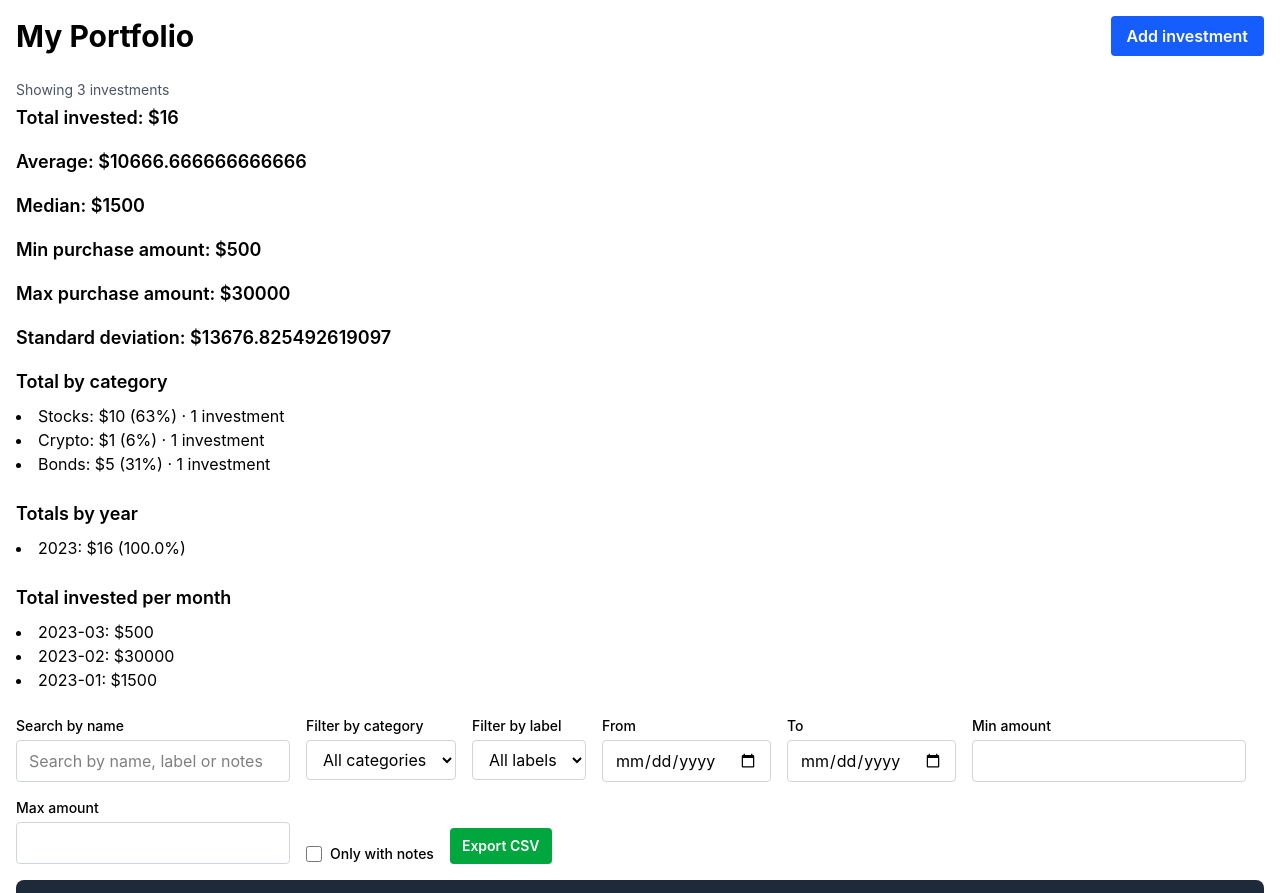
Test: HomePage › filter by category › AC-004: shows an empty-state message when no investments match the active filters
The image size is (1280, 893).
Select "Stocks" in the dropdown labelled "Filter by category" at (381, 760), box [306,740,456,780]
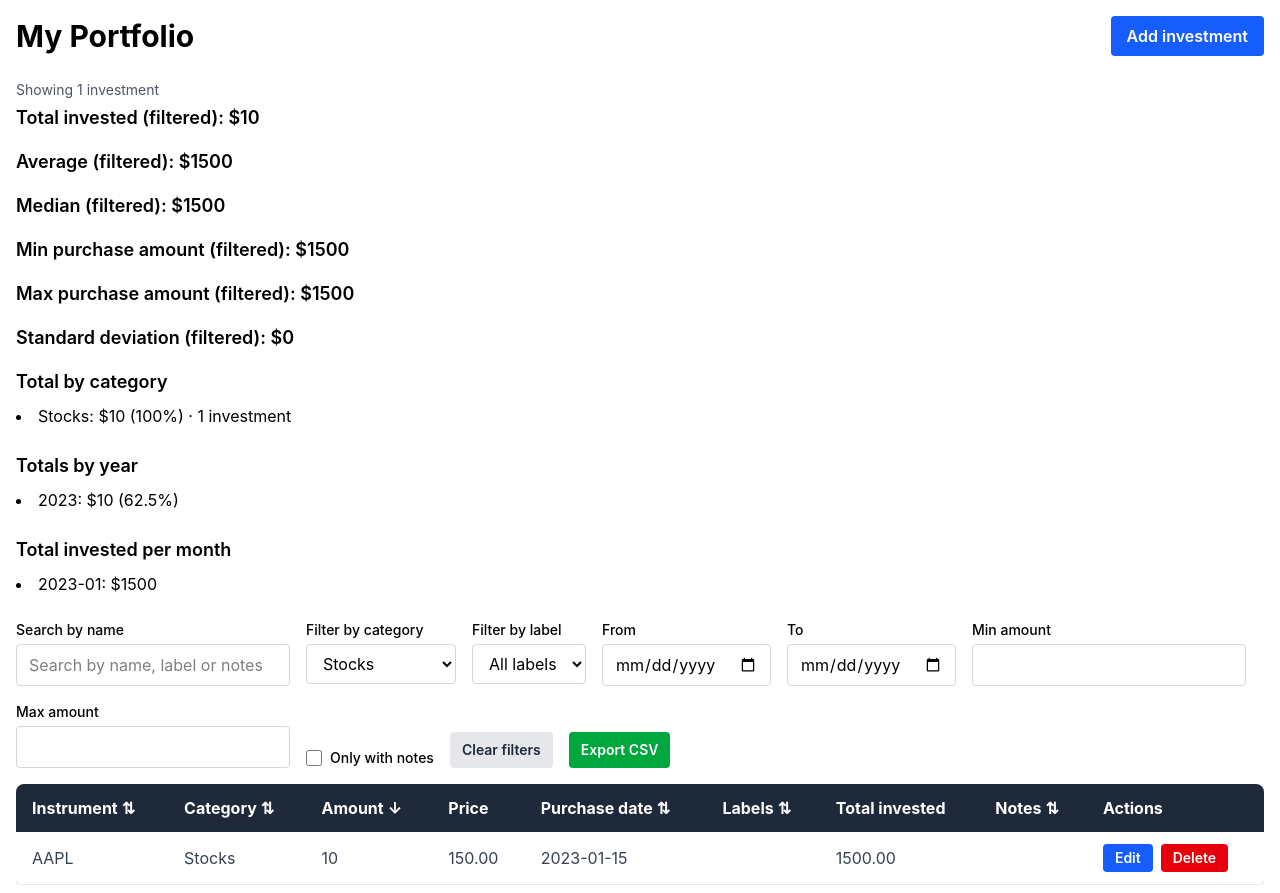
Type "no-such-instrument" into the field with placeholder "Search by name, label or notes" at (153, 665), box [16,644,290,686]
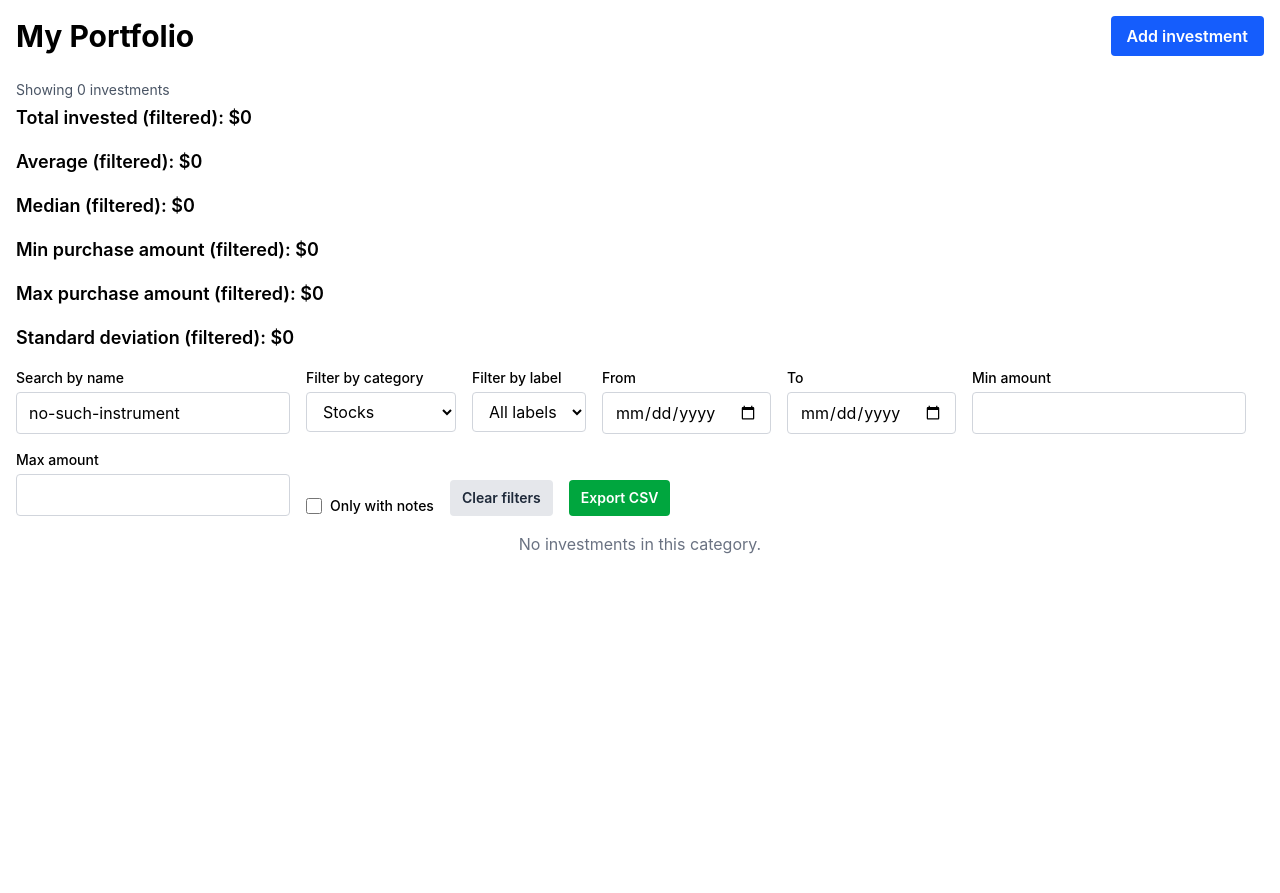
Expected: the text "No investments in this category." is shown, [519,534,761,554]
Expected: the table is gone
